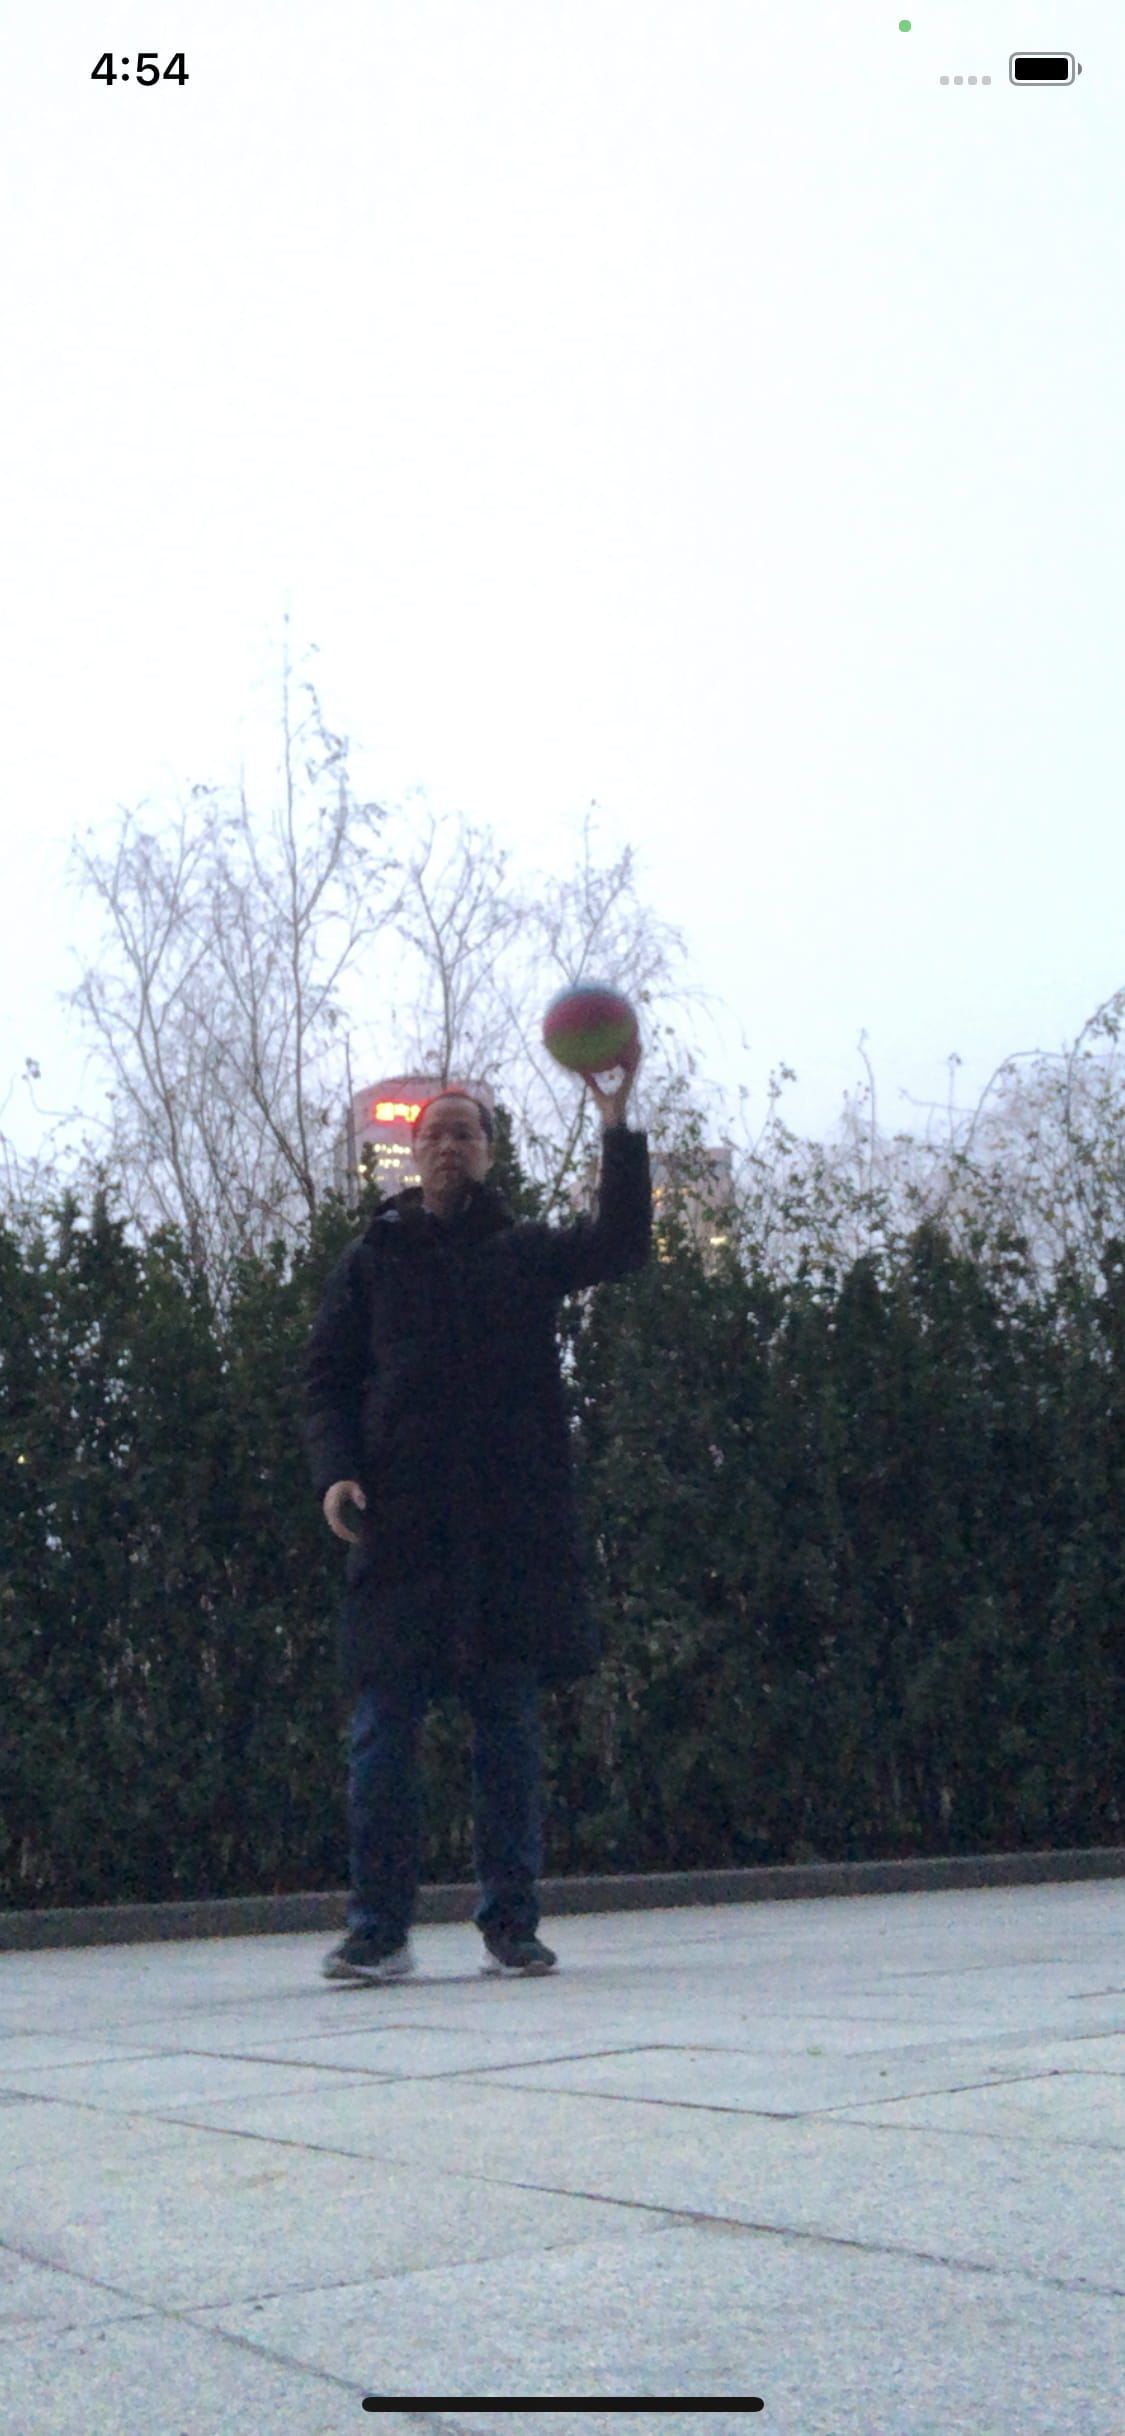ball: (547, 980, 639, 1075)
